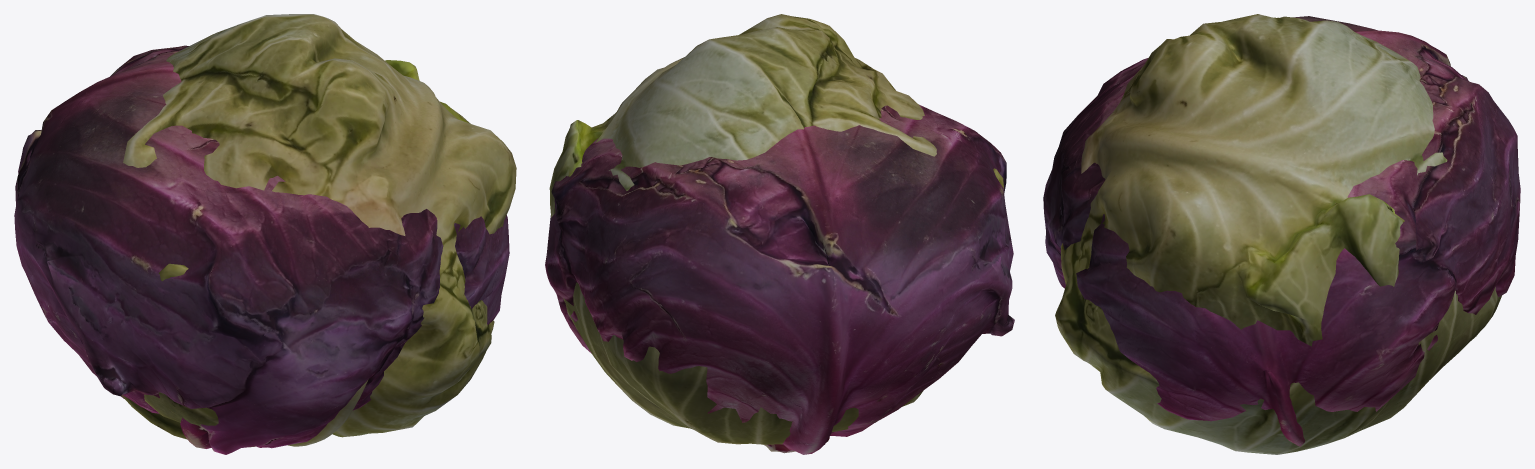
File: kiri_chou.gltf
3 views of the same model, side by side, from view 1: azimuth 30°, elevation 25°; view 2: azimuth 150°, elevation 25°; view 3: azimuth 270°, elevation 25° (orthographic). The views are drawn at different scales.
Parts seen in each view (by area): view 1: A69_Cabbage, A15_Cabbage; view 2: A69_Cabbage, A15_Cabbage; view 3: A15_Cabbage, A69_Cabbage.
Boxes of the visible parts, x1,y1,x2,y2 form: A69_Cabbage: [14, 45, 509, 454]; A15_Cabbage: [121, 14, 516, 447]; A69_Cabbage: [545, 104, 1014, 454]; A15_Cabbage: [549, 14, 1003, 444]; A15_Cabbage: [1055, 14, 1501, 454]; A69_Cabbage: [1043, 16, 1520, 446].
Size of the model in its own units: 0.1667 by 0.1426 by 0.1536.
Materials: 2 (2 with a texture image).
